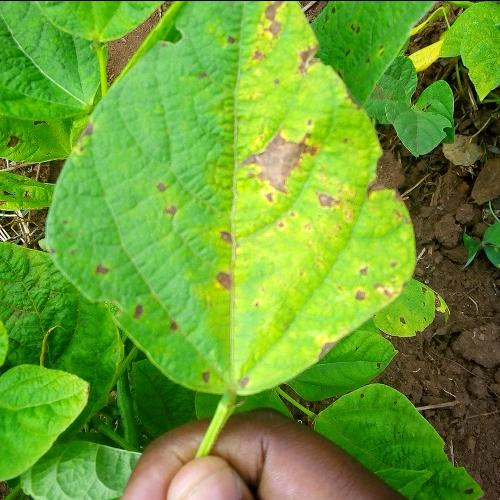hawar: (40, 1, 410, 392)
mozaik: (363, 137, 421, 201)
